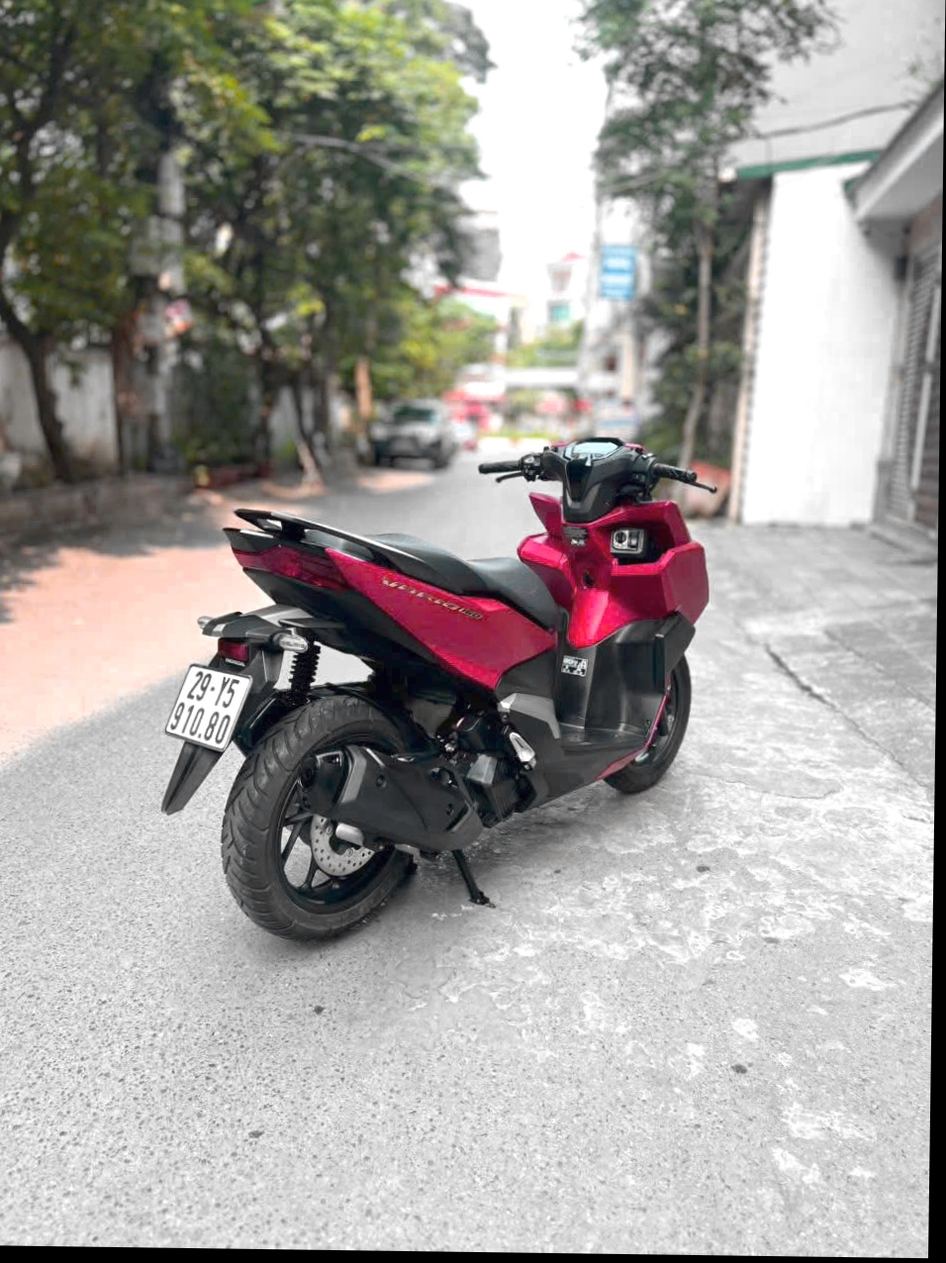Bien-so: (167, 660, 251, 753)
